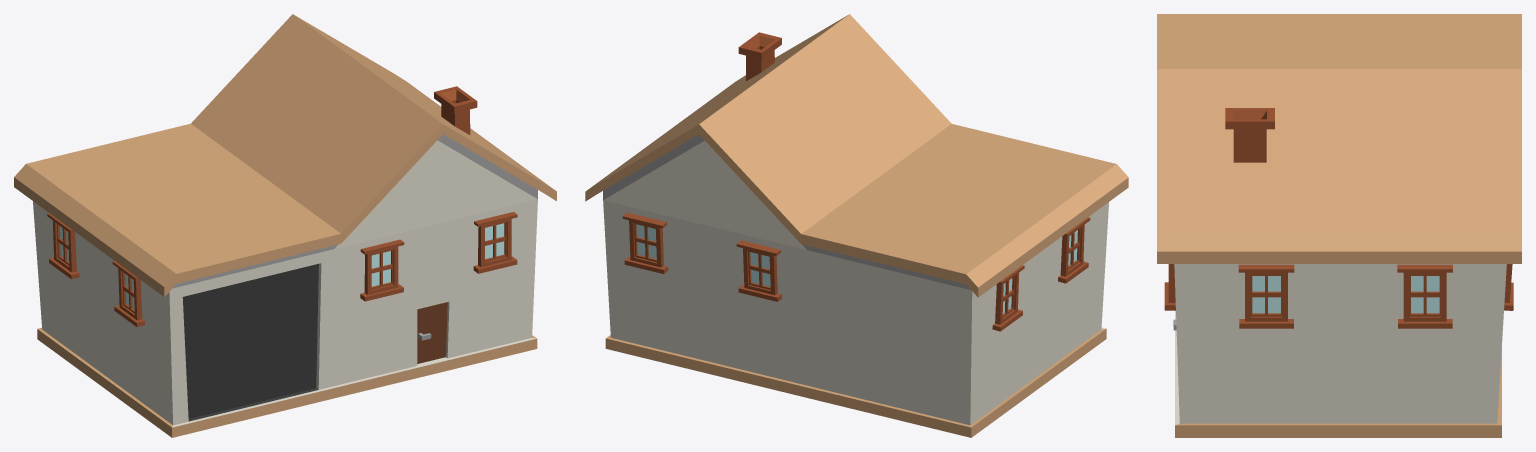
File: house4.glb
The picture shows the model from 3 angles, left to right: view 1: azimuth 30°, elevation 25°; view 2: azimuth 150°, elevation 25°; view 3: azimuth 270°, elevation 25°; orthographic projection. The views are drawn at different scales.
Parts seen in each view (by area): view 1: House4_Cube.018; view 2: House4_Cube.018; view 3: House4_Cube.018.
Boxes of the visible parts, <box> form: House4_Cube.018: <box>14,14,556,437</box>; House4_Cube.018: <box>585,14,1128,437</box>; House4_Cube.018: <box>1157,14,1521,437</box>.
Size of the model in its own units: 2.16 by 1.34 by 1.44.
Materials: 1 (1 with a texture image).
